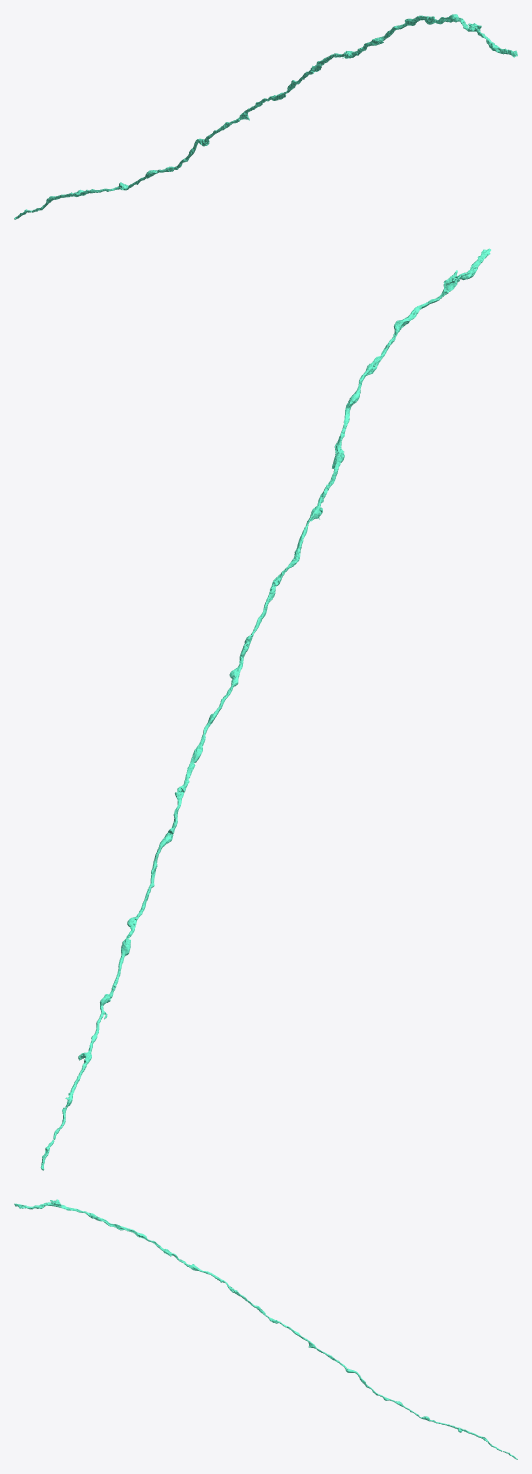
File: VFB_jrmc2hns.glb
3 renders of one model, top to bottom at view 1: azimuth 30°, elevation 25°; view 2: azimuth 150°, elevation 25°; view 3: azimuth 270°, elevation 25°, orthographic. The views are drawn at different scales.
Visible parts, largest first — view 1: VFB_jrmc2hns; view 2: VFB_jrmc2hns; view 3: VFB_jrmc2hns.
Part boxes in pixels (x1,y1,x2,y2): VFB_jrmc2hns: (14,14,517,219); VFB_jrmc2hns: (40,248,490,1170); VFB_jrmc2hns: (14,1199,517,1459).
Bounding box in the file's own units: 0.0062 × 0.0445 × 0.0746.
